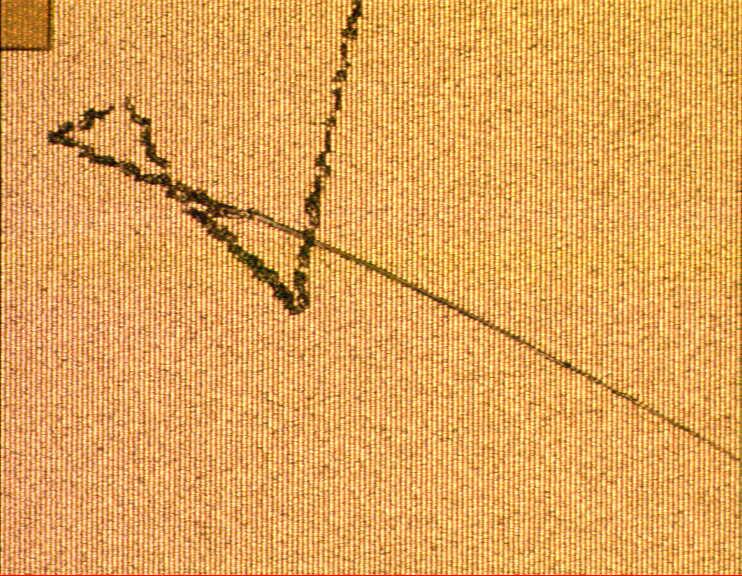SCRATCH: (41, 1, 742, 472)
